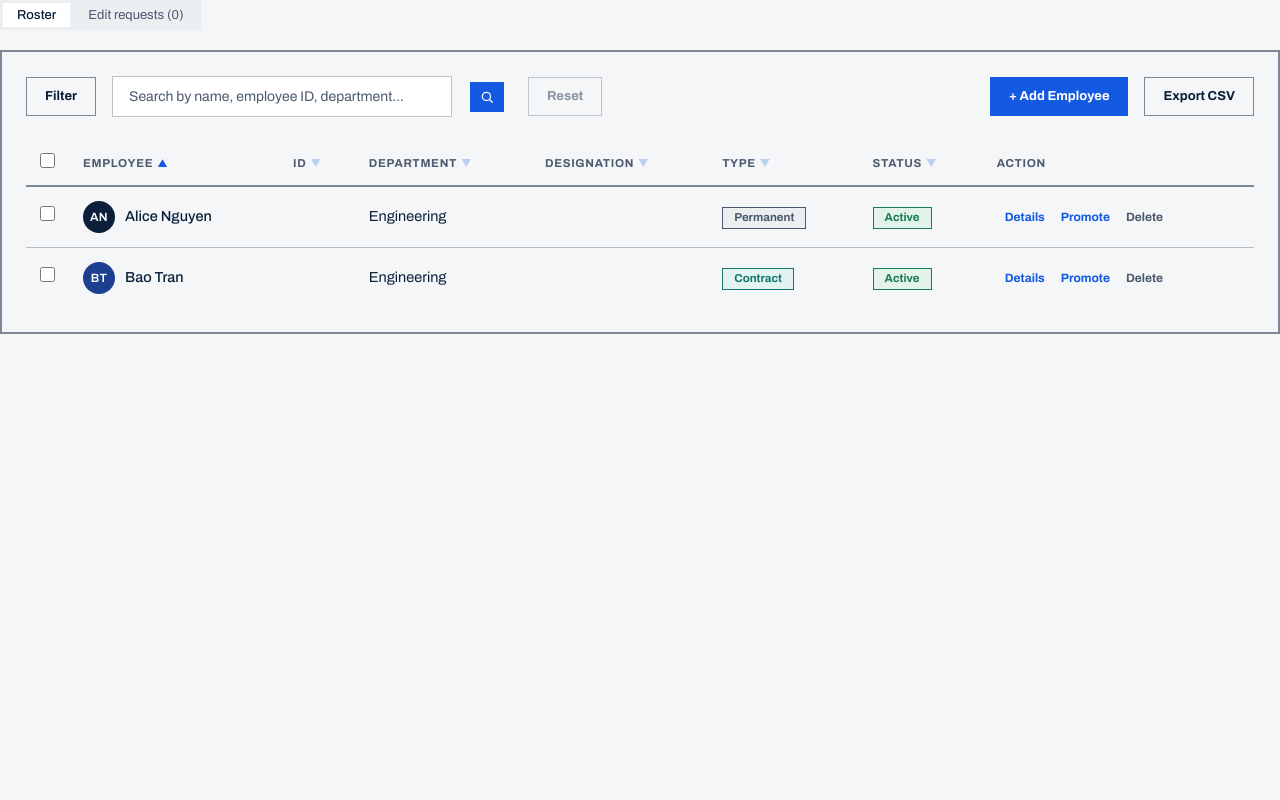
it: AllEmployees — salary visibility in the side panel › shows salary to ADMIN on a colleague's card
Click the text "Alice Nguyen" at point(168, 217), box top-left (125, 206), bottom-right (212, 228)
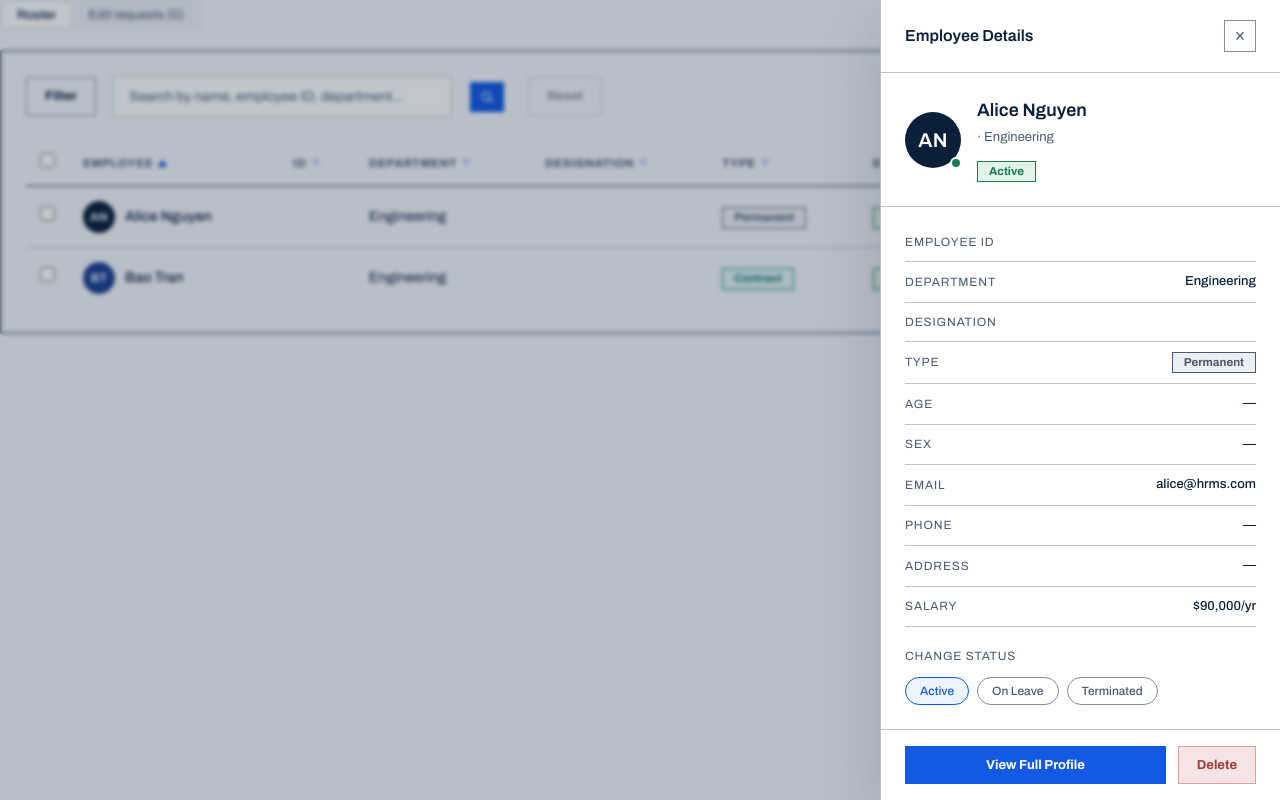
Check: the text "Salary" is shown, box top-left (905, 597), bottom-right (957, 615)
